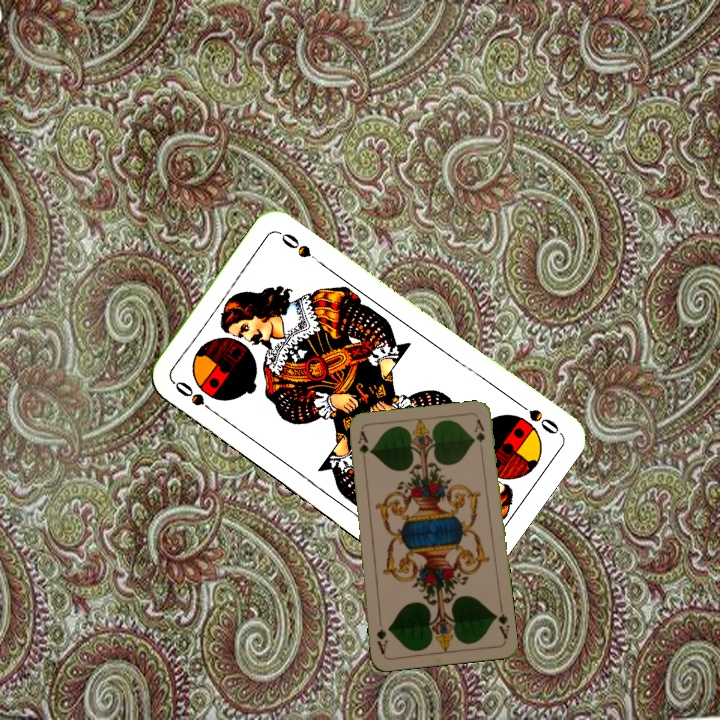GA: (490, 602, 512, 641), (353, 427, 371, 468)
SO: (170, 377, 221, 418), (512, 397, 563, 437)
